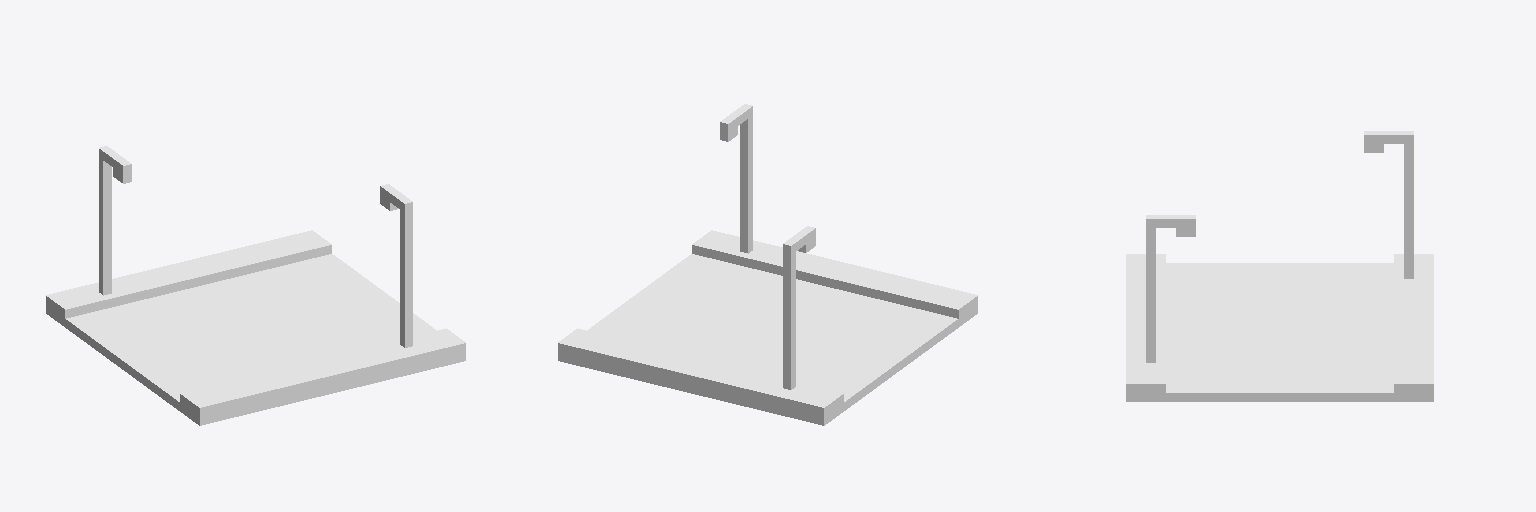
Rendered from Road2.obj.
The picture shows the model from 3 angles: view 1: azimuth 30°, elevation 25°; view 2: azimuth 150°, elevation 25°; view 3: azimuth 270°, elevation 25°; orthographic projection.
Parts seen in each view (by area): view 1: Road2; view 2: Road2; view 3: Road2.
Part boxes in pixels (left/top/right/bottom): Road2: left=46, top=146, right=465, bottom=425; Road2: left=558, top=104, right=977, bottom=425; Road2: left=1126, top=131, right=1433, bottom=401.
Bounding box in the file's own units: 31 × 18 × 31.